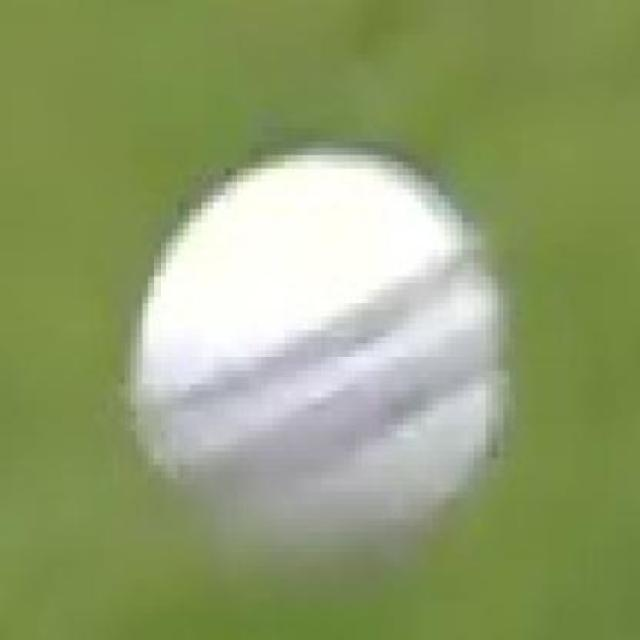Cricket ball: (129, 138, 521, 573)
